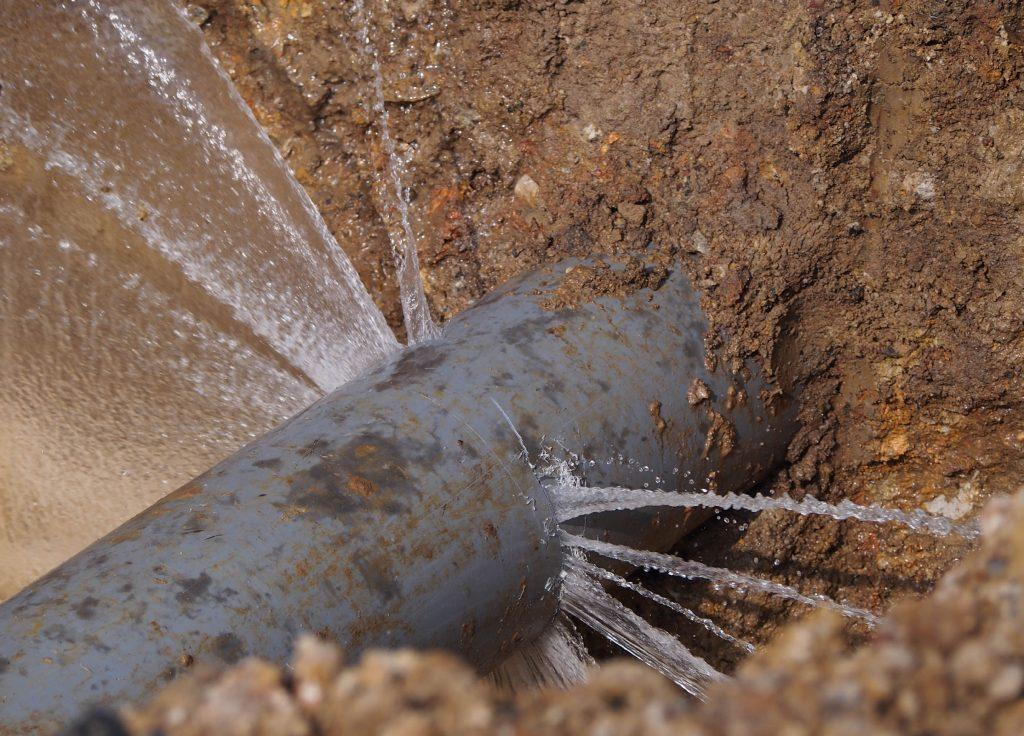pipe burst: (0, 0, 449, 594), (455, 468, 929, 712)
